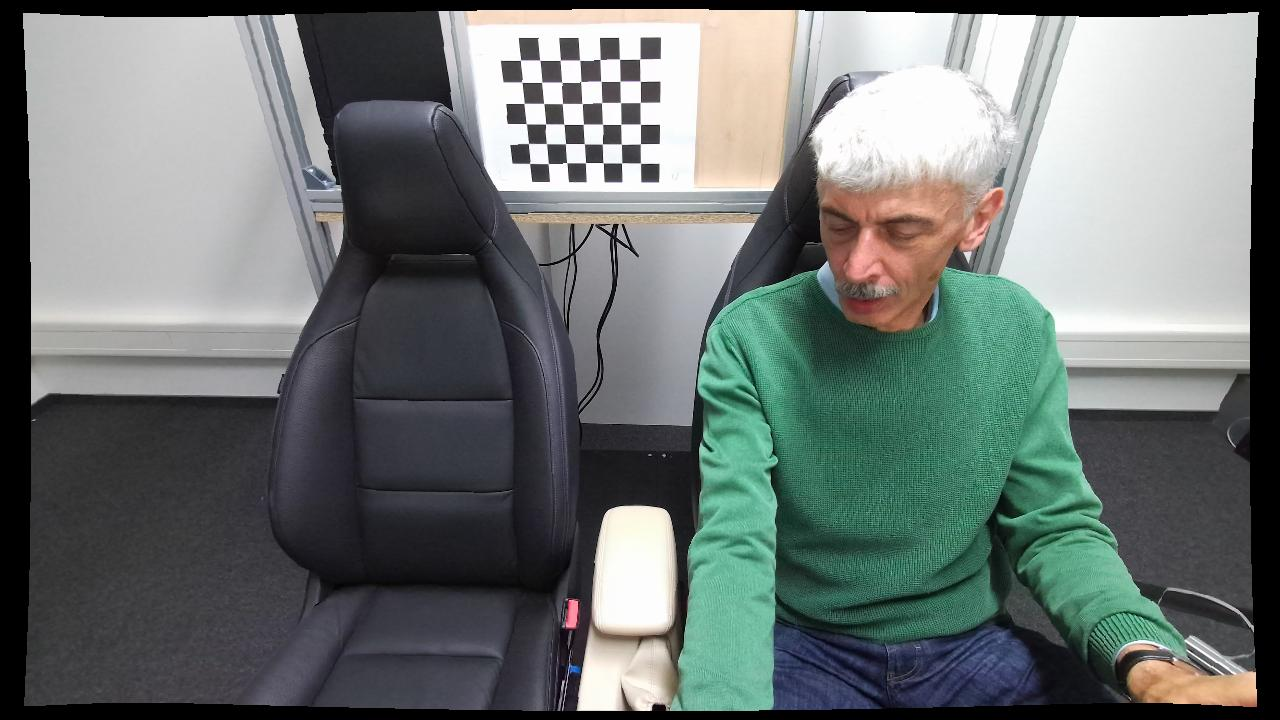Distracted: (673, 65, 1183, 709)
